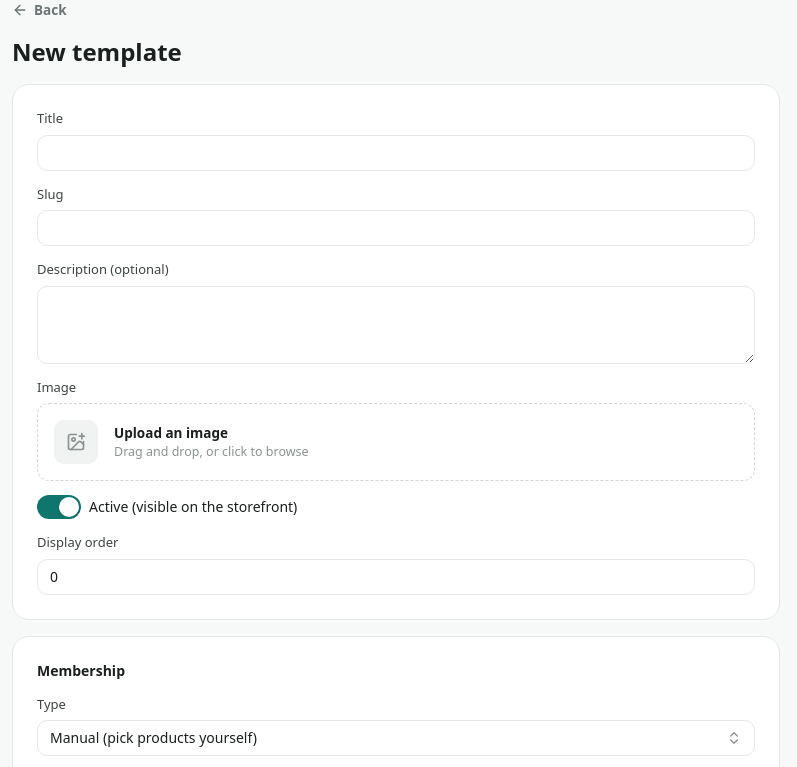
Test: TemplateForm › opens the Type combobox on click and selects an option
Expected: the text "Type" is shown, [37,695,66,713]
Click the dropdown.
click(154, 738)  # box [37,720,755,756]
(page scrolled)
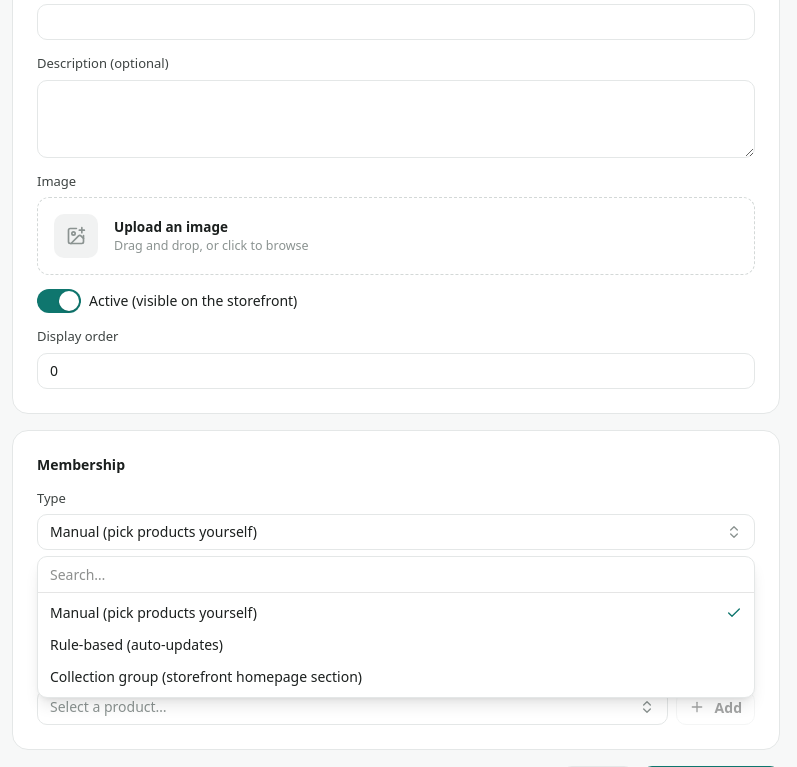
Click the option "Rule-based (auto-updates)".
click(137, 645)  # box [38,629,754,661]
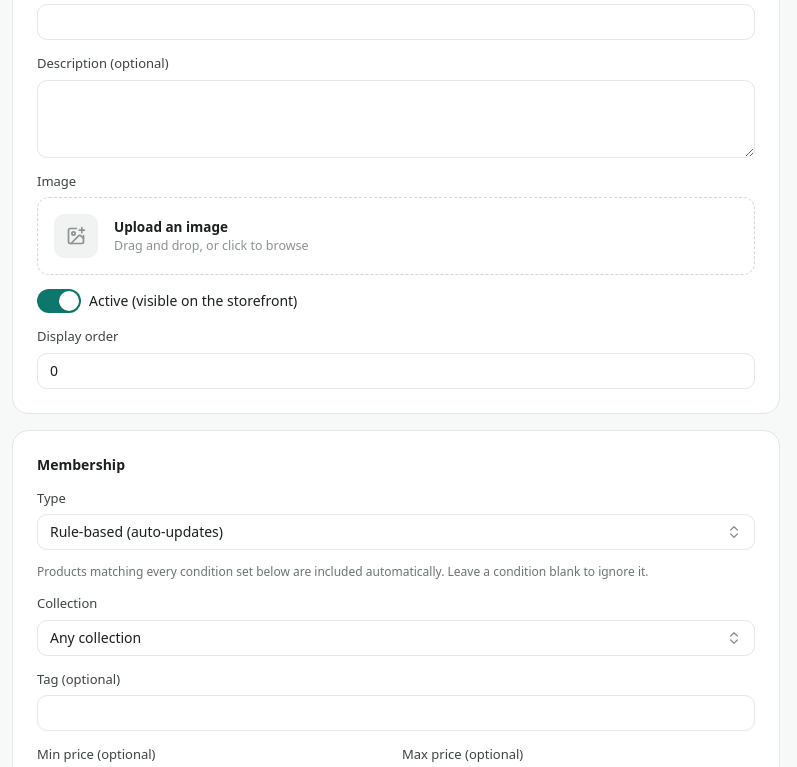
Result: the dropdown labelled "Rule-based (auto-updates)" is shown at [37,514,755,550]
